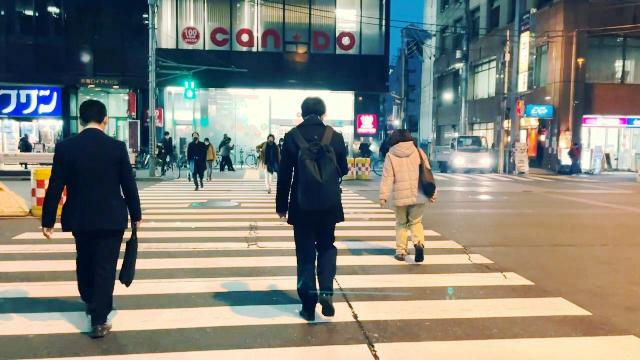berjalan: (39, 98, 147, 338), (272, 95, 350, 331), (376, 124, 439, 264)
